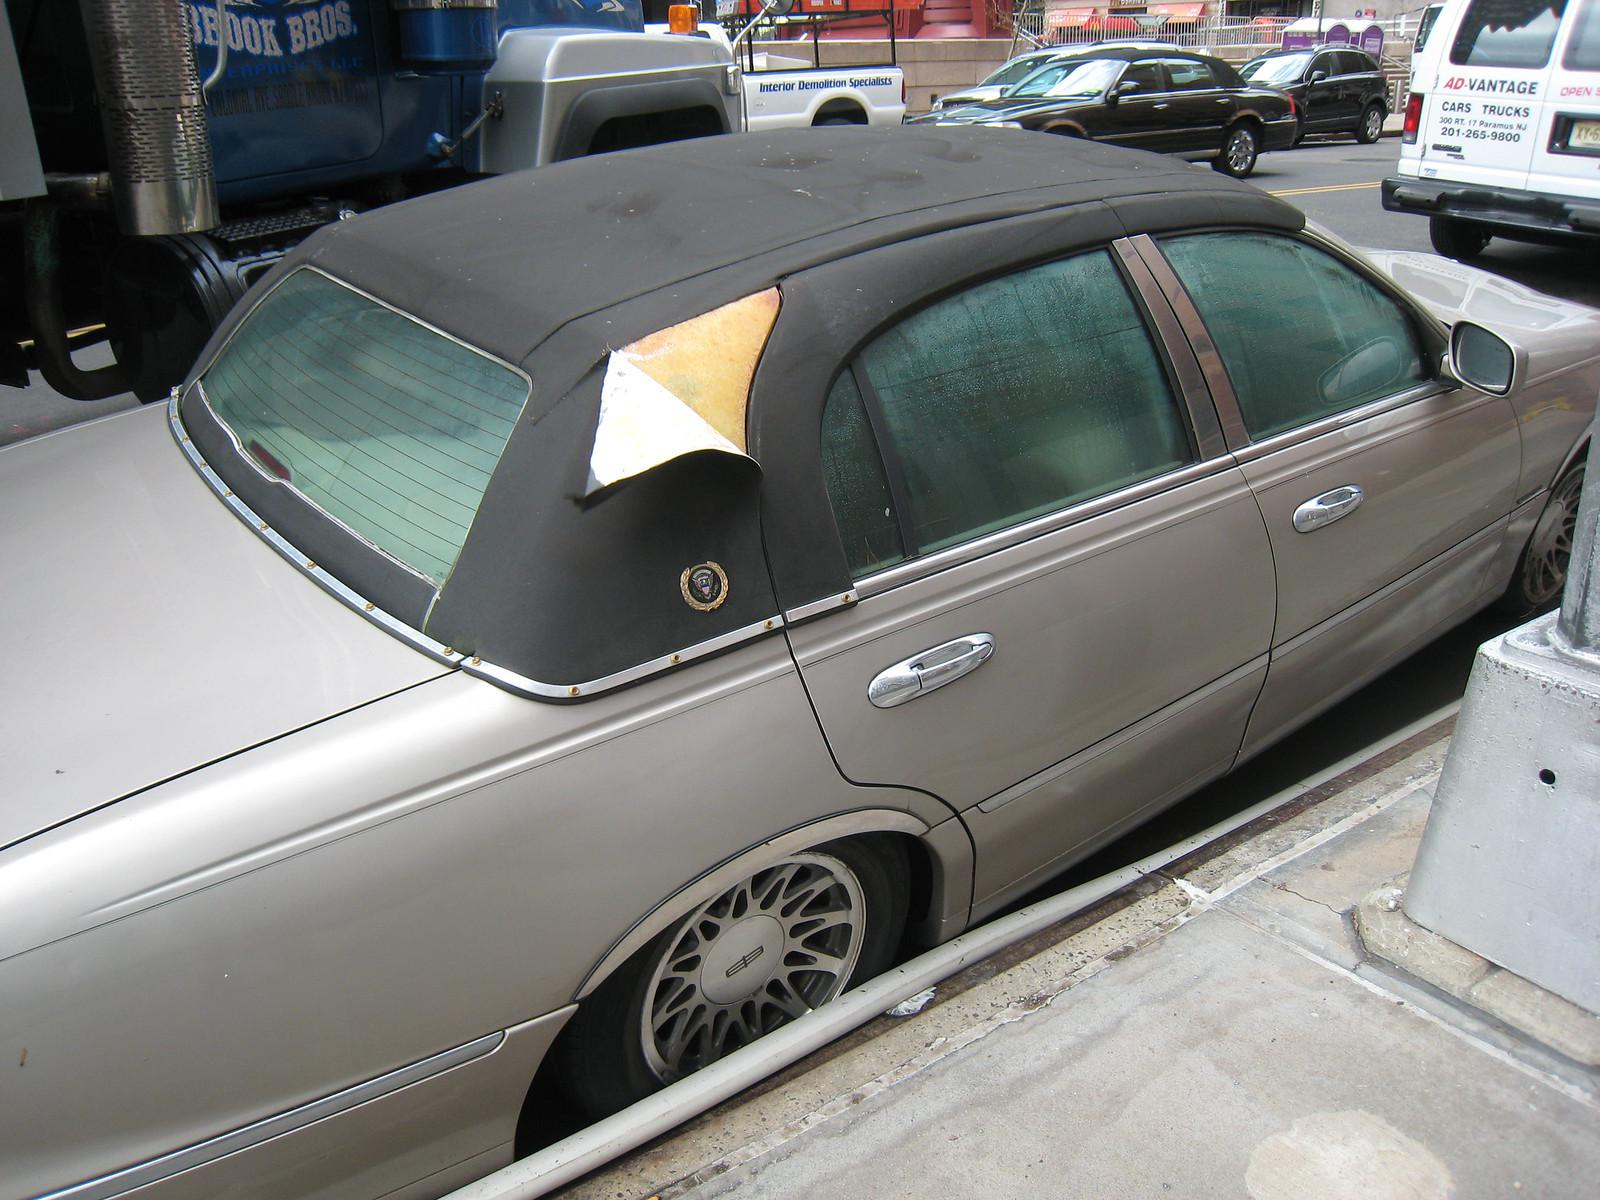pillar-dent: (561, 303, 777, 629)
